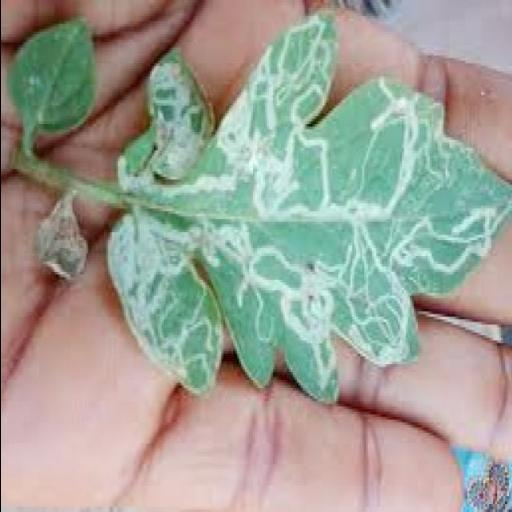disease_tomato: (107, 0, 512, 401)
